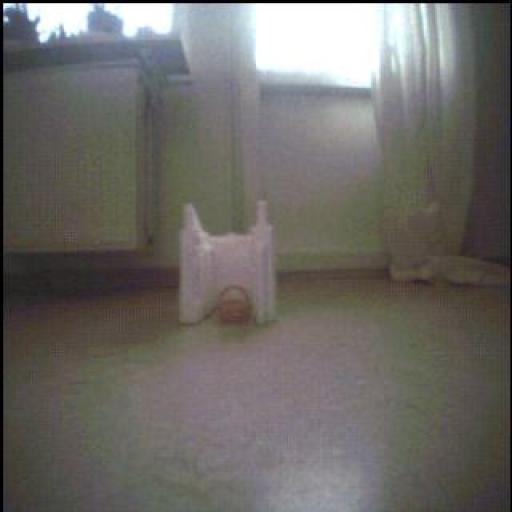Basket: (219, 286, 254, 324)
